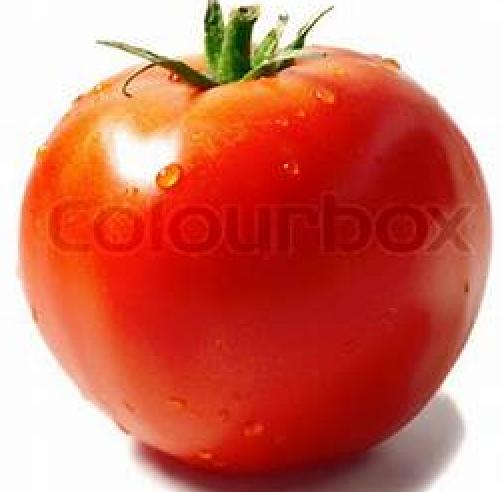tomato: (22, 39, 483, 482)
